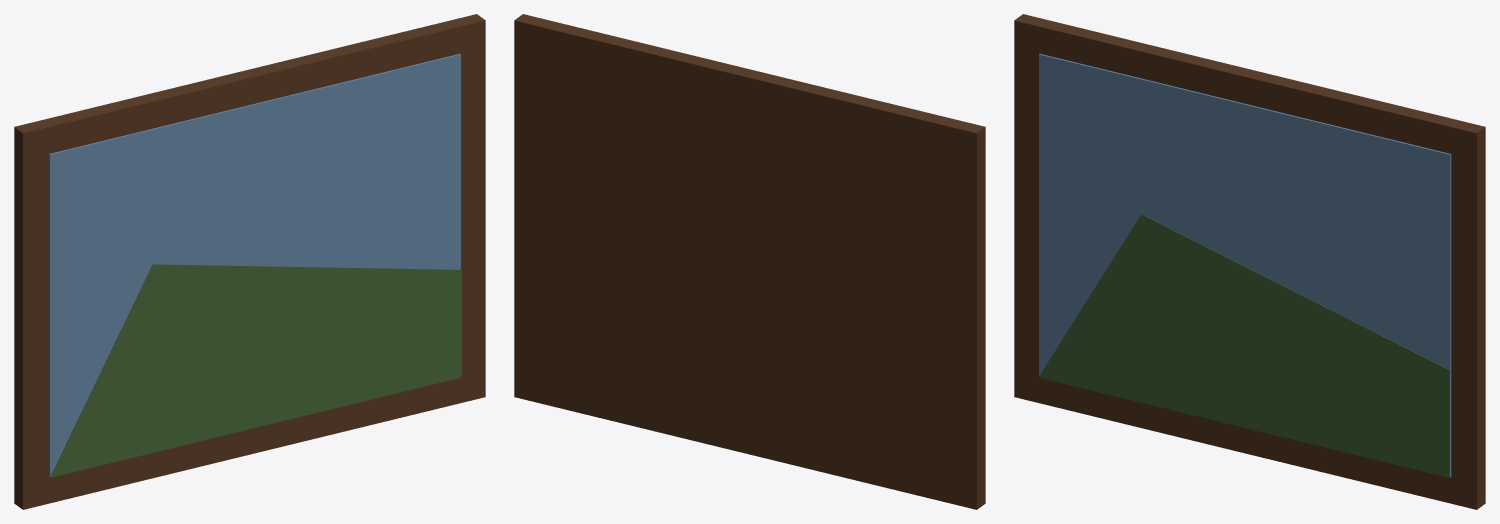
File: wall_painting.glb
3 renders of one model, left to right at view 1: azimuth 30°, elevation 25°; view 2: azimuth 150°, elevation 25°; view 3: azimuth 330°, elevation 25°, orthographic.
Visible parts, largest first — view 1: wall_painting; view 2: wall_painting; view 3: wall_painting.
Boxes of the visible parts, box(x1,y1,x2,y2) form: wall_painting: box(14, 14, 485, 509); wall_painting: box(514, 14, 985, 509); wall_painting: box(1014, 14, 1485, 509).
Bounding box in the file's own units: 0.9 × 0.7 × 0.035.
